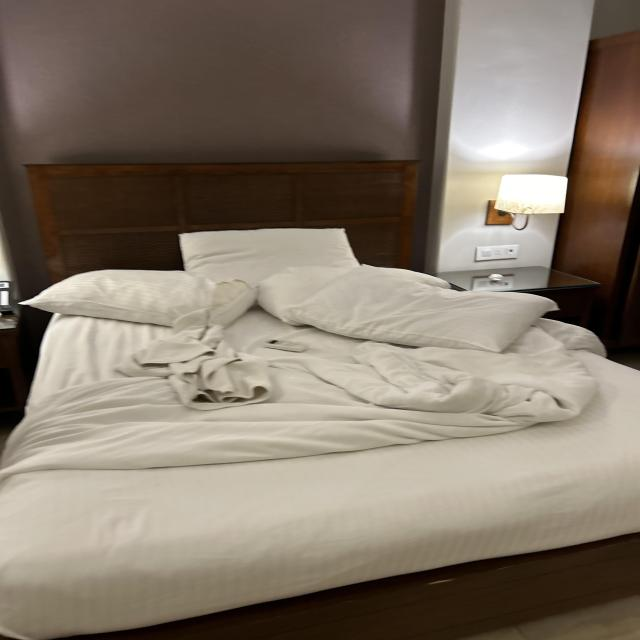mess: (0, 232, 640, 569)
